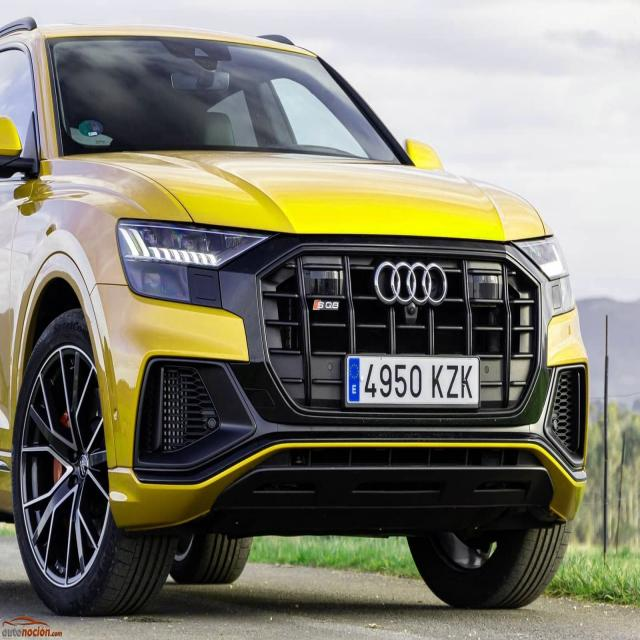License-Plate: (346, 352, 481, 408)
